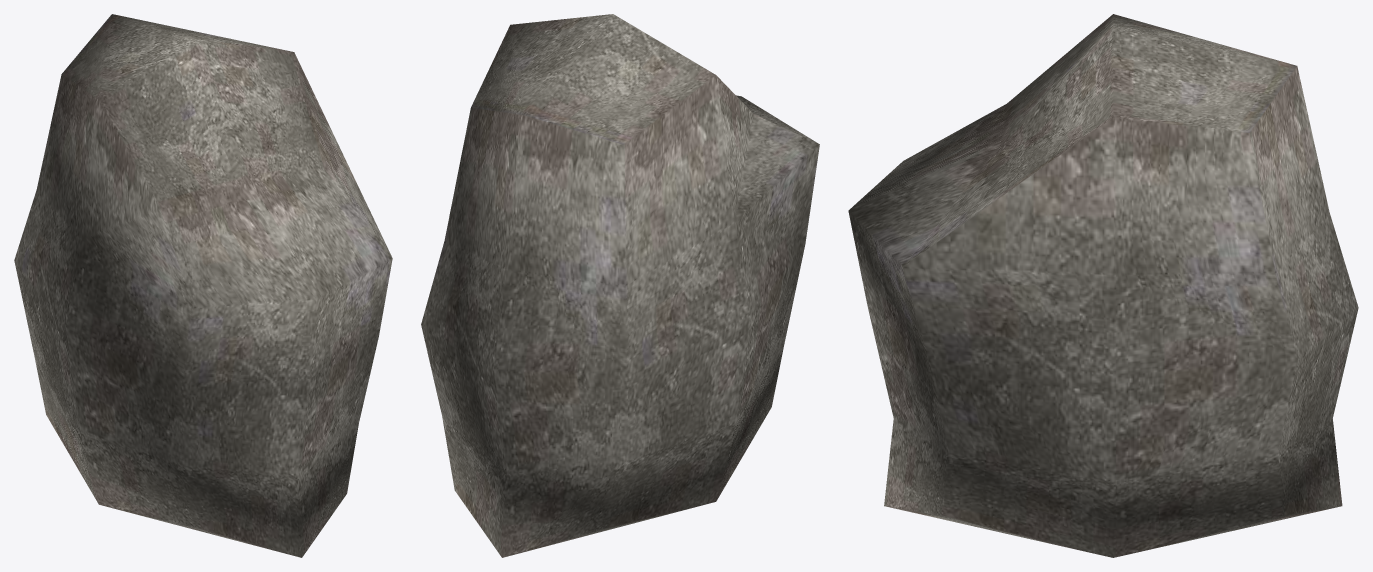
The model's file is stone_08.fbx.
The picture shows the model from 3 angles, left to right: view 1: azimuth 30°, elevation 25°; view 2: azimuth 150°, elevation 25°; view 3: azimuth 270°, elevation 25°; orthographic projection. The views are drawn at different scales.
Parts seen in each view (by area): view 1: pCube4; view 2: pCube4; view 3: pCube4.
Boxes of the visible parts, x1=… form: pCube4: x1=14, y1=14, x2=392, y2=557; pCube4: x1=421, y1=14, x2=819, y2=557; pCube4: x1=848, y1=14, x2=1358, y2=557.
Bounding box in the file's own units: 2 × 3.47 × 3.12.
